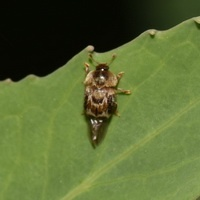insect: (83, 46, 130, 146)
